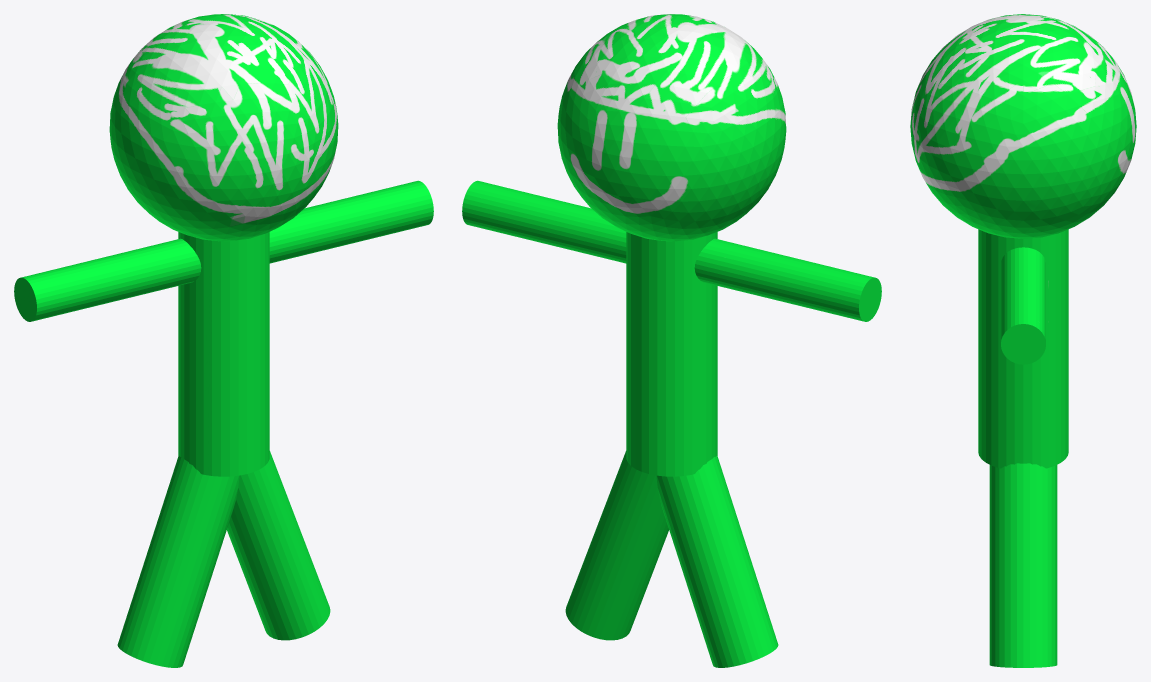
The model's file is player.glb.
The picture shows the model from 3 angles, left to right: view 1: azimuth 30°, elevation 25°; view 2: azimuth 150°, elevation 25°; view 3: azimuth 270°, elevation 25°; orthographic projection.
Visible parts, largest first — view 1: Cylinder.003; view 2: Cylinder.003; view 3: Cylinder.003.
Boxes of the visible parts, x1,y1,x2,y2 form: Cylinder.003: [14, 14, 433, 667]; Cylinder.003: [462, 14, 881, 667]; Cylinder.003: [910, 14, 1136, 667].
Size of the model in its own units: 2.8 by 4.2 by 1.4.
Materials: 1 (1 with a texture image).
